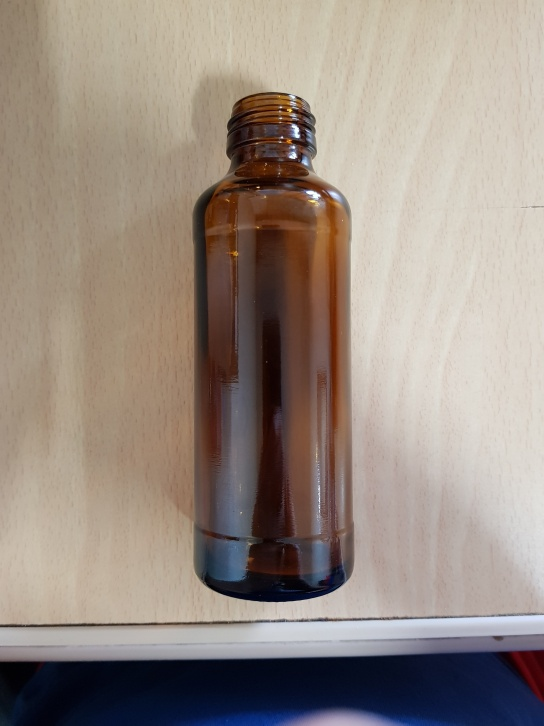Glass: (189, 92, 356, 606)
